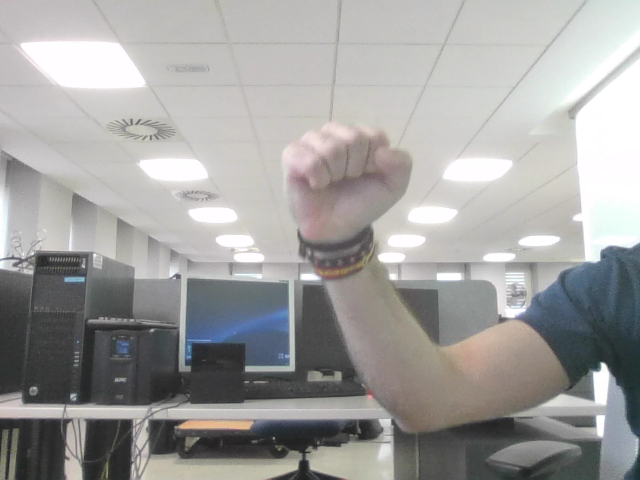Puño: (296, 132, 398, 213)
